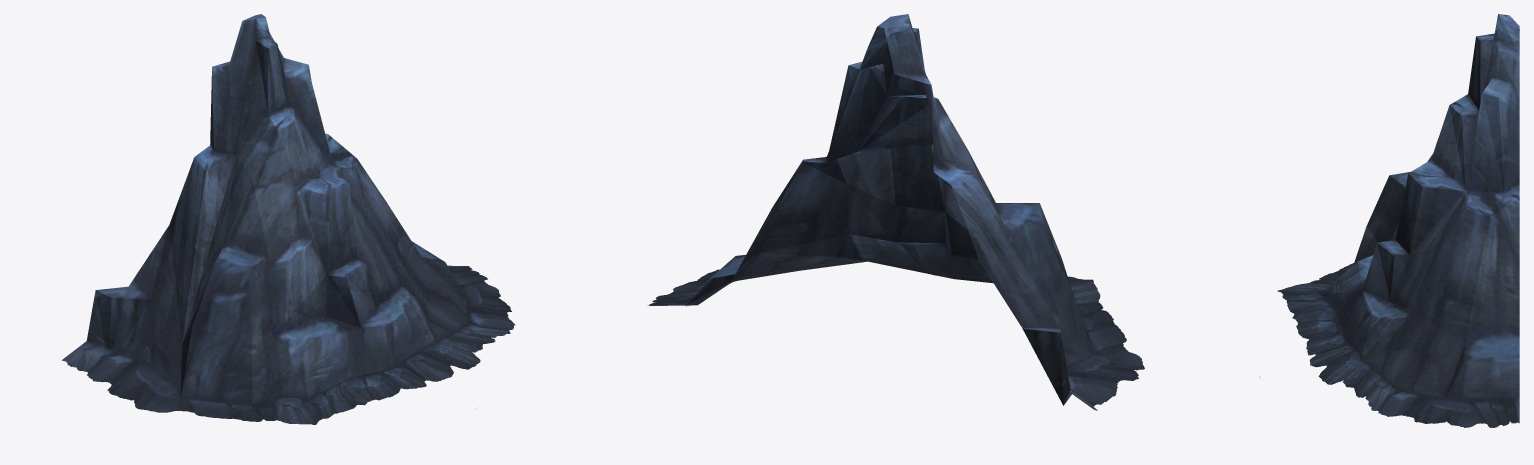
File: mine_wall_footer_01.fbx
3 views of the same model, side by side, from view 1: azimuth 30°, elevation 25°; view 2: azimuth 150°, elevation 25°; view 3: azimuth 270°, elevation 25° (orthographic). The views are drawn at different scales.
Parts seen in each view (by area): view 1: mine_tileset/rock01_mat; view 2: mine_tileset/rock01_mat; view 3: mine_tileset/rock01_mat.
Boxes of the visible parts, x1,y1,x2,y2 form: mine_tileset/rock01_mat: (62, 14, 515, 424); mine_tileset/rock01_mat: (647, 14, 1144, 410); mine_tileset/rock01_mat: (1259, 14, 1519, 427).
Bounding box in the file's own units: 7.58 × 4.85 × 3.89.
